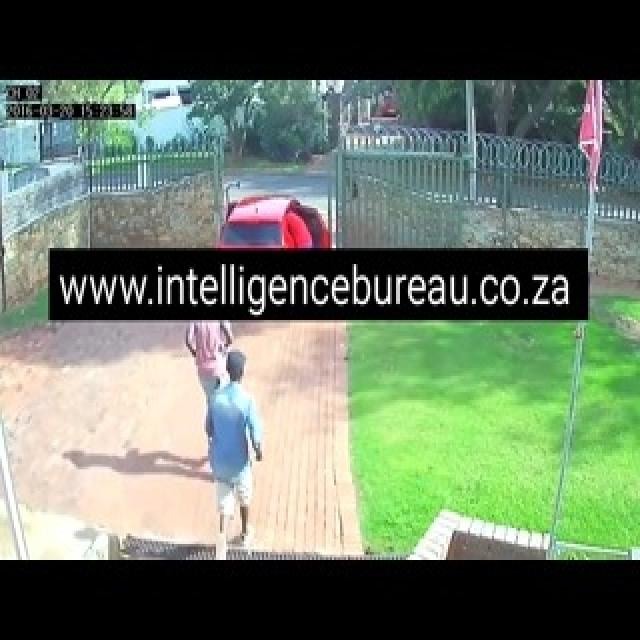thief: (206, 352, 271, 405)
